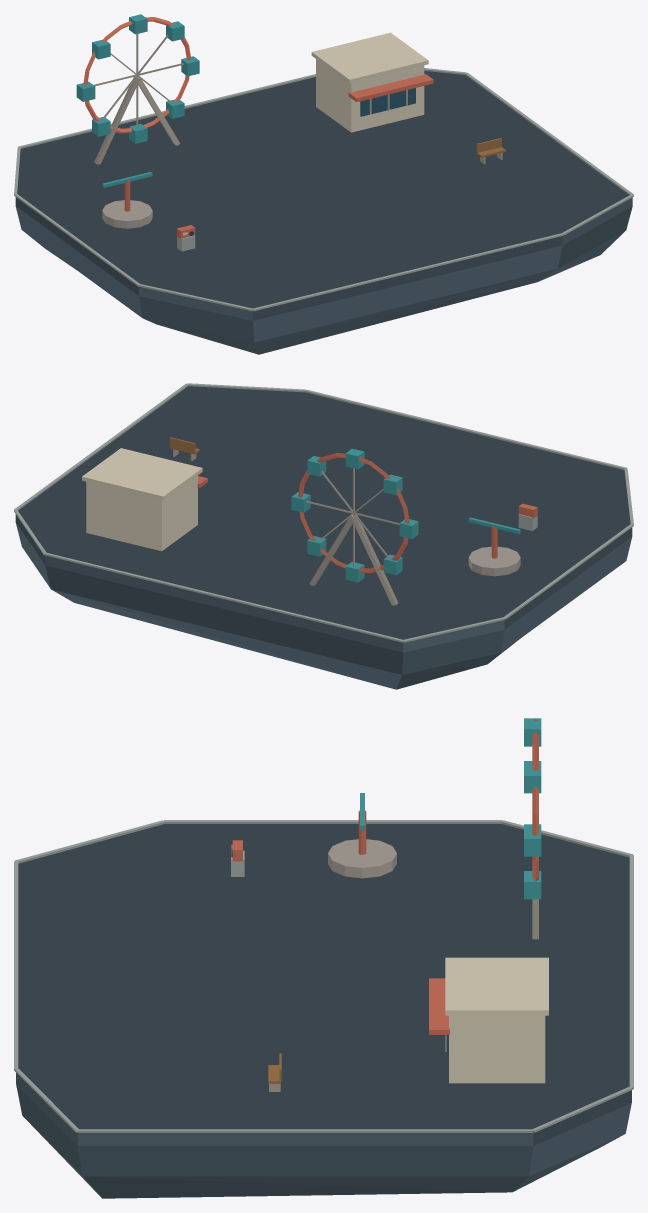
File: ft01-closed-fairground.glb
The picture shows the model from 3 angles, top to bottom: view 1: azimuth 30°, elevation 25°; view 2: azimuth 150°, elevation 25°; view 3: azimuth 270°, elevation 25°; orthographic projection. The views are drawn at different scales.
Parts seen in each view (by area): view 1: GEO_foundation, LAND_1_booth, LAND_0_ferris, GEO_rim, LAND_2_ride, PROP_bench; view 2: GEO_foundation, LAND_1_booth, LAND_0_ferris, GEO_rim, LAND_2_ride, PROP_radio; view 3: GEO_foundation, LAND_1_booth, GEO_rim, LAND_0_ferris, LAND_2_ride.
Part boxes in pixels (x1,y1,x2,y2): GEO_foundation: (15, 71, 632, 354); LAND_1_booth: (311, 32, 433, 132); LAND_0_ferris: (76, 14, 199, 164); GEO_rim: (14, 68, 633, 311); LAND_2_ride: (102, 172, 152, 228); PROP_bench: (476, 138, 505, 164); GEO_foundation: (15, 386, 632, 689); LAND_1_booth: (82, 448, 207, 551); LAND_0_ferris: (291, 448, 418, 605); GEO_rim: (14, 383, 633, 642); LAND_2_ride: (468, 517, 520, 576); PROP_radio: (518, 503, 537, 530); GEO_foundation: (16, 824, 631, 1198); LAND_1_booth: (429, 957, 548, 1083); GEO_rim: (14, 820, 633, 1132); LAND_0_ferris: (524, 718, 541, 939); LAND_2_ride: (328, 793, 396, 878).
Bounding box in the file's own units: 38.22 × 15.45 × 32.22.
